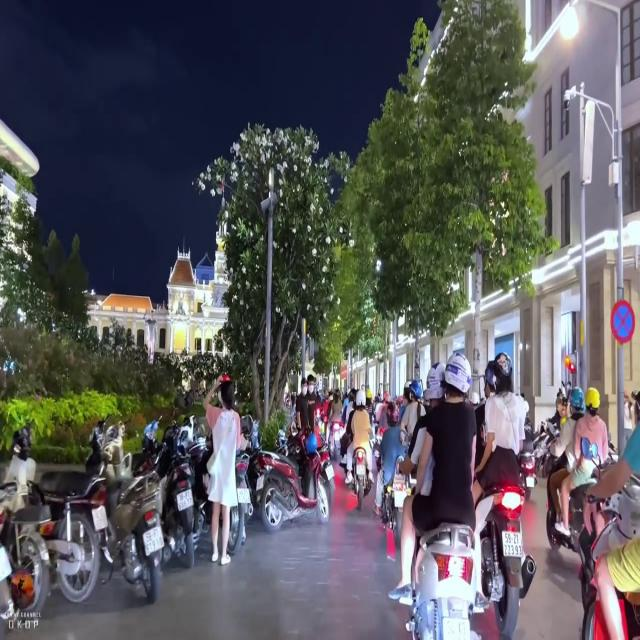bien_trang: (498, 530, 524, 560)
